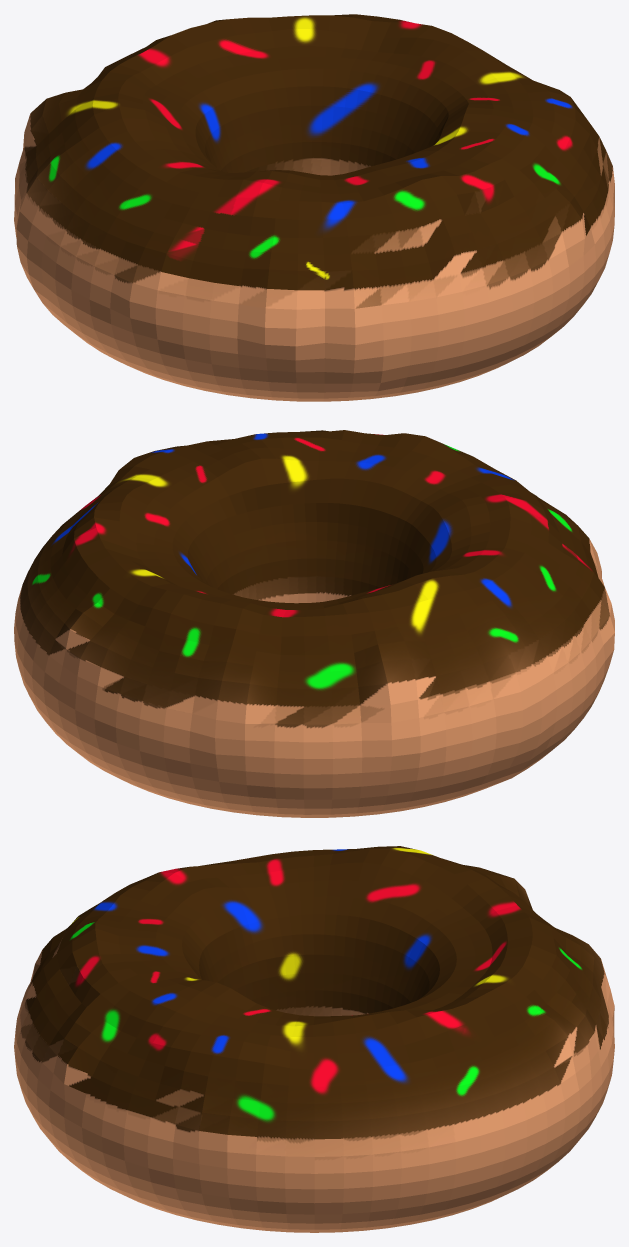
File: DOUGHNUT.fbx
The picture shows the model from 3 angles, top to bottom: view 1: azimuth 30°, elevation 25°; view 2: azimuth 150°, elevation 25°; view 3: azimuth 270°, elevation 25°; orthographic projection.
Visible parts, largest first — view 1: Torus.001; view 2: Torus.001; view 3: Torus.001.
Boxes of the visible parts, x1,y1,x2,y2 form: Torus.001: (14, 14, 614, 401); Torus.001: (14, 430, 614, 817); Torus.001: (14, 846, 614, 1232).
Bounding box in the file's own units: 146 × 57.45 × 146.
Materials: 1 (1 with a texture image).
